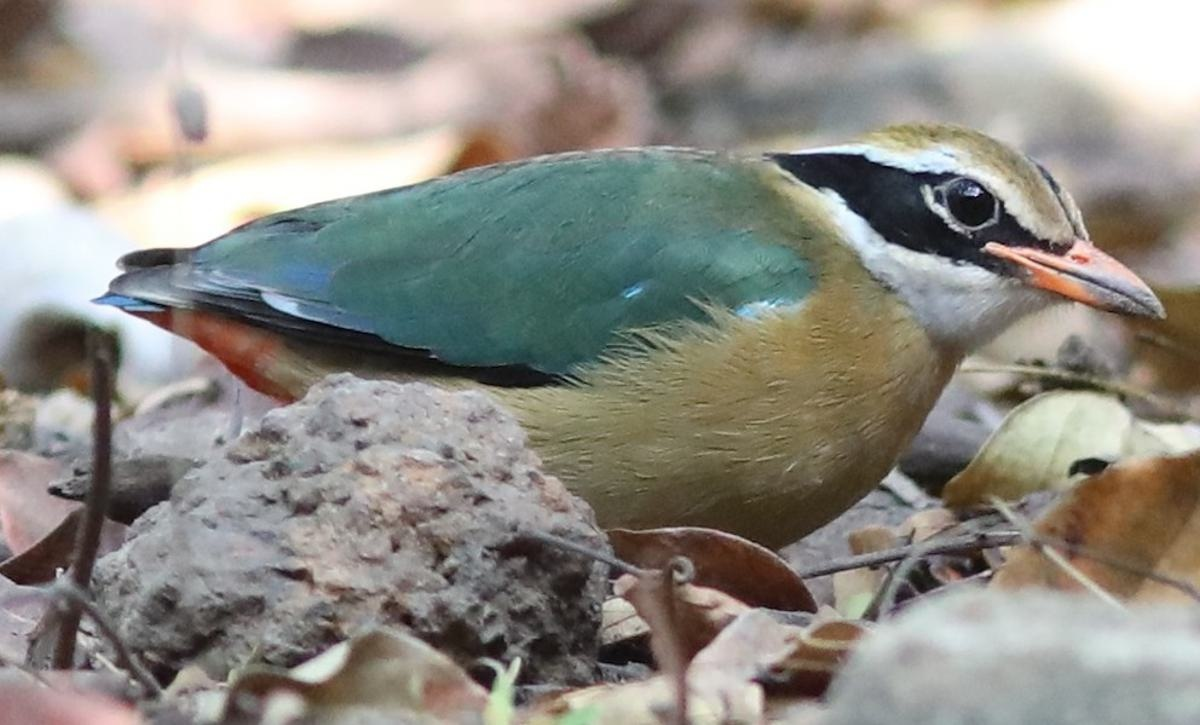pitta: (114, 109, 1174, 565)
